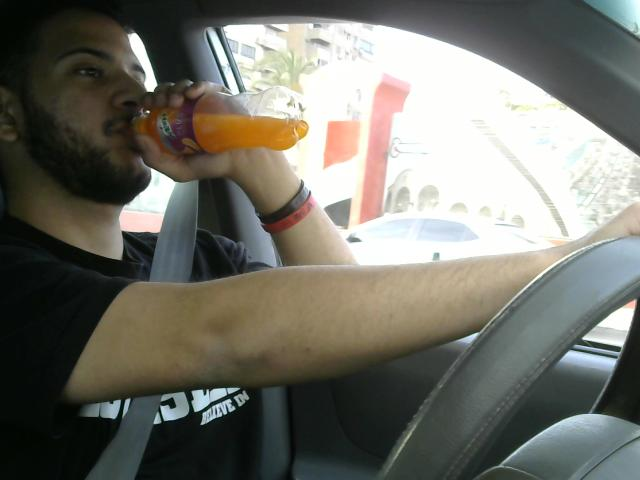Drinking: (0, 12, 310, 198)
